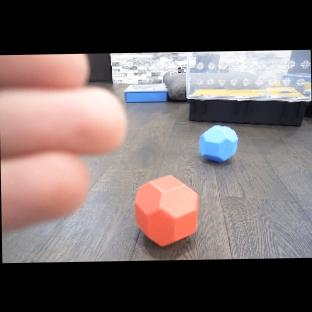V5_BLUE: (132, 175, 201, 248), (197, 122, 238, 164)
